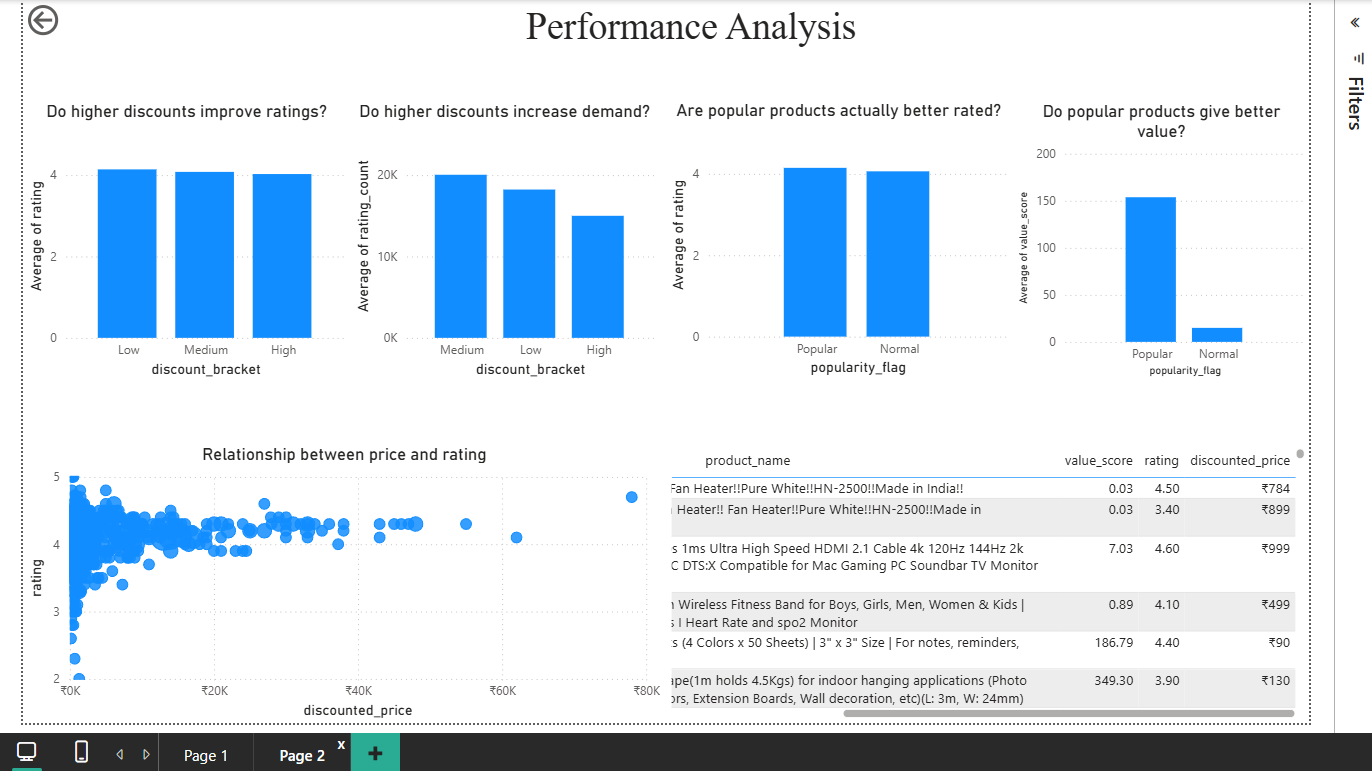

The page's visual inventory and layout, read from the dashboard file:
{"tool":"powerbi","page":{"name":"Page 2","canvas":[1280,720],"ordinal":1},"visuals":[{"type":"clusteredColumnChart","title":"Do higher discounts improve ratings?","fields":{"Y":["Avg(project - Copy2.rating)"],"Category":["project - Copy2.discount_bracket"]},"box":[0,101,326.3,279.5],"z":0},{"type":"clusteredColumnChart","title":"Do higher discounts increase demand?","fields":{"Y":["Avg(project - Copy2.rating_count)"],"Category":["project - Copy2.discount_bracket"]},"box":[326.3,101,307.3,279.5],"z":1000},{"type":"clusteredColumnChart","title":"Are popular products actually better rated?","fields":{"Category":["project - Copy2.popularity_flag"],"Y":["Avg(project - Copy2.rating)"]},"box":[639.4,99.5,345.3,279.5],"z":2000},{"type":"clusteredColumnChart","title":"Do popular products give better value?","fields":{"Category":["project - Copy2.popularity_flag"],"Y":["Avg(project - Copy2.value_score)"]},"box":[984.7,101,295.6,279.5],"z":3000},{"type":"scatterChart","title":"Relationship between price and rating","fields":{"X":["project - Copy2.discounted_price"],"Y":["project - Copy2.rating"],"Size":["CountNonNull(project - Copy2.rating)"]},"box":[0,441.9,639.4,278],"z":4000},{"type":"tableEx","fields":{"Values":["project - Copy2.product_name","project - Copy2.value_score","project - Copy2.rating","project - Copy2.discounted_price"]},"box":[639.4,441.9,640.9,278],"z":5000},{"type":"actionButton","box":[0,0,100,40],"z":6000}]}

Visuals, with their boxes on the page's 1280x720 design canvas (x1, y1, x2, y2). These are canvas units, not pixel positions in the 1372x771 screenshot, which may show the page scaled, cropped or inside an application window:
"Do higher discounts improve ratings?" clusteredColumnChart: (left=0, top=101, right=326, bottom=380)
"Do higher discounts increase demand?" clusteredColumnChart: (left=326, top=101, right=634, bottom=380)
"Are popular products actually better rated?" clusteredColumnChart: (left=639, top=100, right=985, bottom=379)
"Do popular products give better value?" clusteredColumnChart: (left=985, top=101, right=1280, bottom=380)
"Relationship between price and rating" scatterChart: (left=0, top=442, right=639, bottom=720)
tableEx - project - Copy2.product_name x project - Copy2.value_score: (left=639, top=442, right=1280, bottom=720)
actionButton: (left=0, top=0, right=100, bottom=40)
